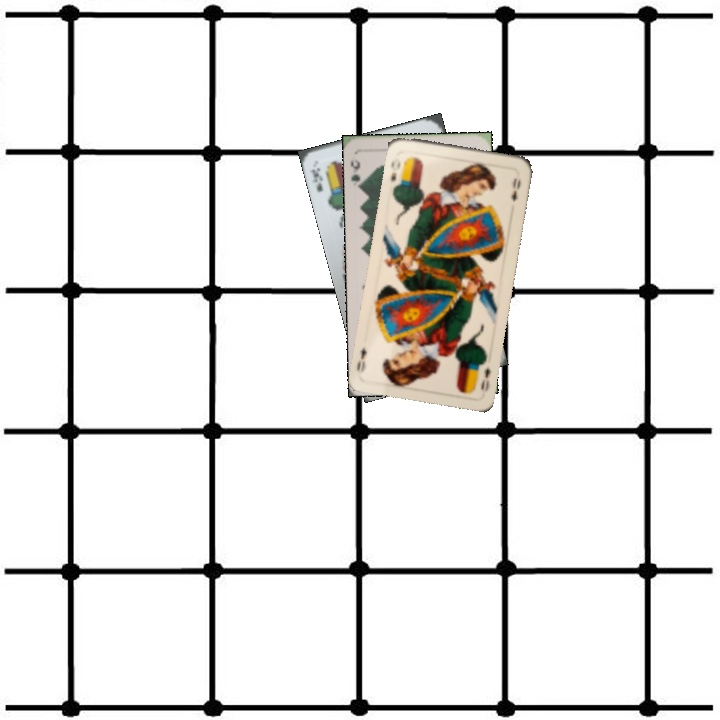EK: (306, 164, 325, 194)
EO: (477, 362, 493, 394), (387, 154, 403, 184)
G9: (346, 156, 367, 191)
